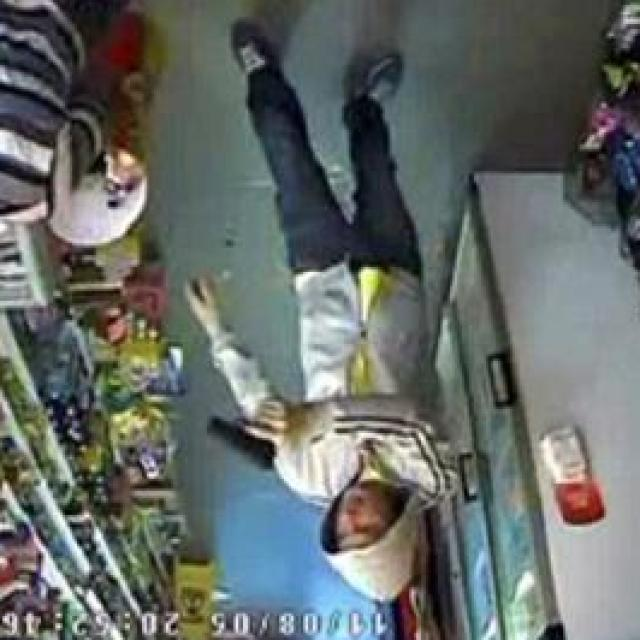pistol: (205, 398, 279, 476)
